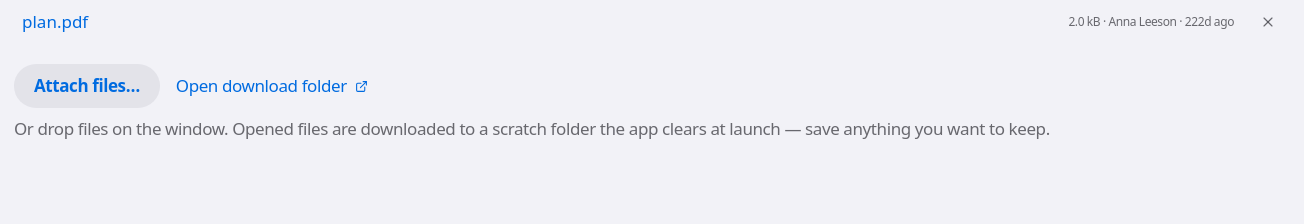
attaching by picker › shows why an upload failed, and stays usable
This screenshot has width=1304, height=224.
Click the button "Attach files…" at (87, 86), box [14, 64, 160, 108]
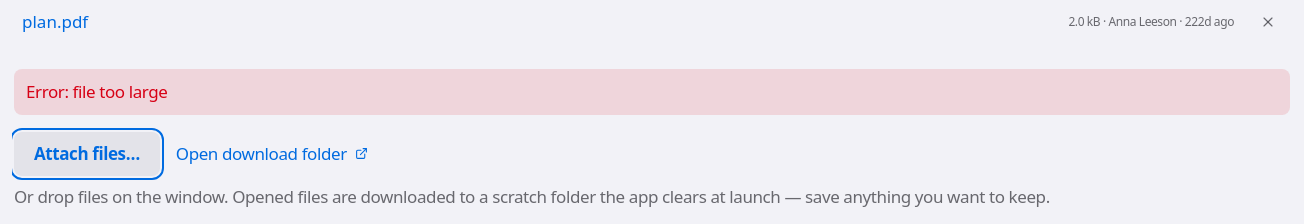
Check: the button "Attach files…" is enabled, box [14, 132, 160, 176]
Check: the text "Error: file too large" is shown, box [14, 69, 1290, 115]
